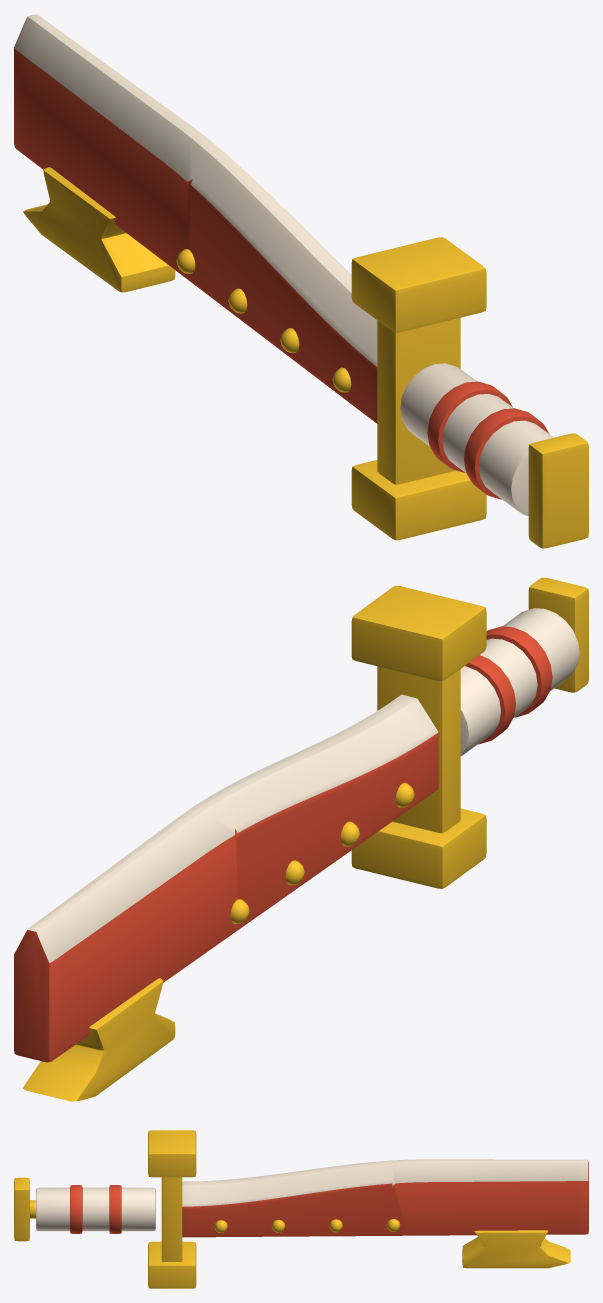
File: Sword_AnvilbackChopper.glb
The picture shows the model from 3 angles, top to bottom: view 1: azimuth 30°, elevation 25°; view 2: azimuth 150°, elevation 25°; view 3: azimuth 270°, elevation 25°; orthographic projection. The views are drawn at different scales.
Parts seen in each view (by area): view 1: Sword_AnvilbackChopper; view 2: Sword_AnvilbackChopper; view 3: Sword_AnvilbackChopper.
Boxes of the visible parts, bbox=[...] form: Sword_AnvilbackChopper: bbox=[14, 14, 588, 548]; Sword_AnvilbackChopper: bbox=[14, 577, 588, 1101]; Sword_AnvilbackChopper: bbox=[14, 1130, 588, 1288].
Size of the model in its own units: 0.1 by 0.26 by 1.
Materials: 1 (1 with a texture image).
